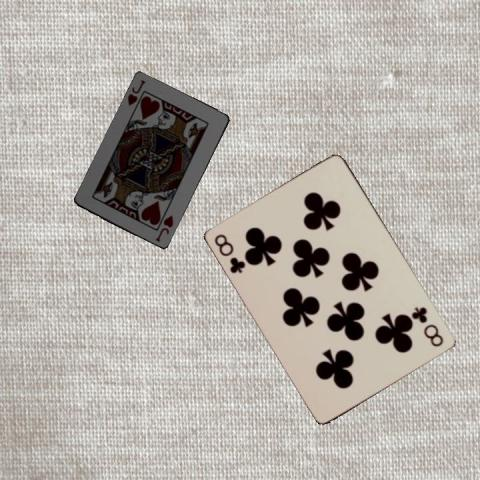8c: (410, 303, 446, 349), (212, 231, 248, 275)
Jh: (125, 77, 146, 112), (153, 212, 174, 244)
